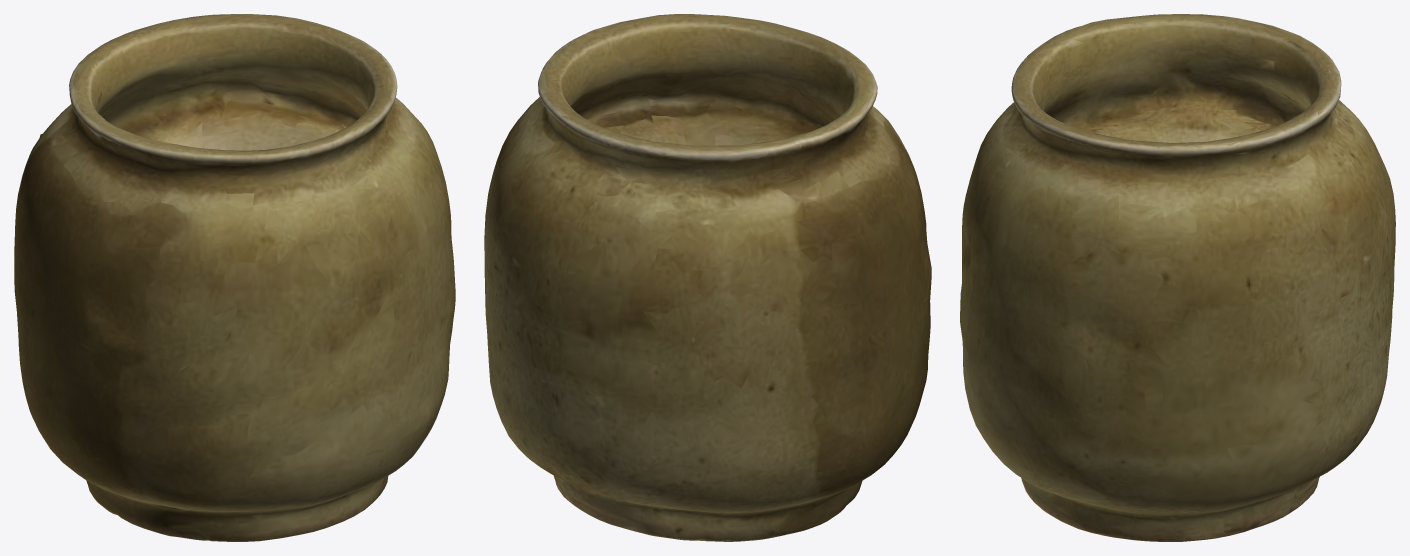
The model's file is MaterialPlace_03.glb.
3 renders of one model, left to right at view 1: azimuth 30°, elevation 25°; view 2: azimuth 150°, elevation 25°; view 3: azimuth 270°, elevation 25°, orthographic.
Parts seen in each view (by area): view 1: Meshy_AI_Rustic_Stoneware_Jar_0529164514_texture; view 2: Meshy_AI_Rustic_Stoneware_Jar_0529164514_texture; view 3: Meshy_AI_Rustic_Stoneware_Jar_0529164514_texture.
Boxes of the visible parts, box(x1,y1,x2,y2) form: Meshy_AI_Rustic_Stoneware_Jar_0529164514_texture: box(14, 14, 455, 541); Meshy_AI_Rustic_Stoneware_Jar_0529164514_texture: box(484, 14, 931, 541); Meshy_AI_Rustic_Stoneware_Jar_0529164514_texture: box(960, 14, 1395, 541).
Bounding box in the file's own units: 1.35 × 1.35 × 1.33.
Materials: 1 (1 with a texture image).
